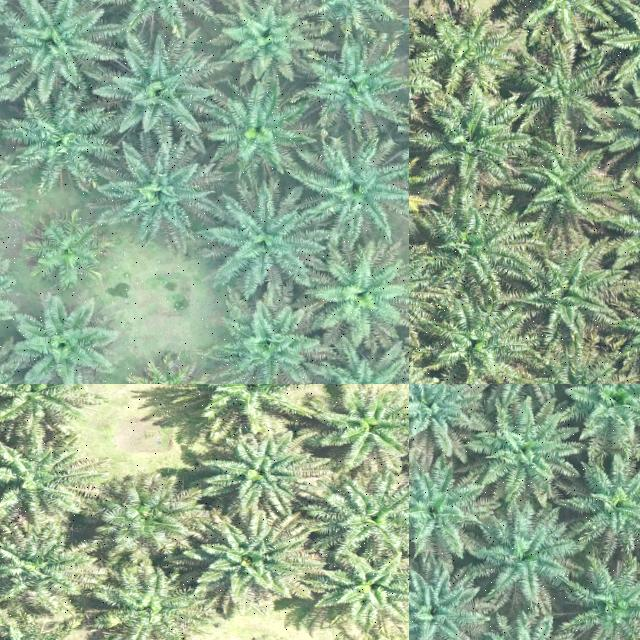Ganoderma: (137, 367, 201, 384)
